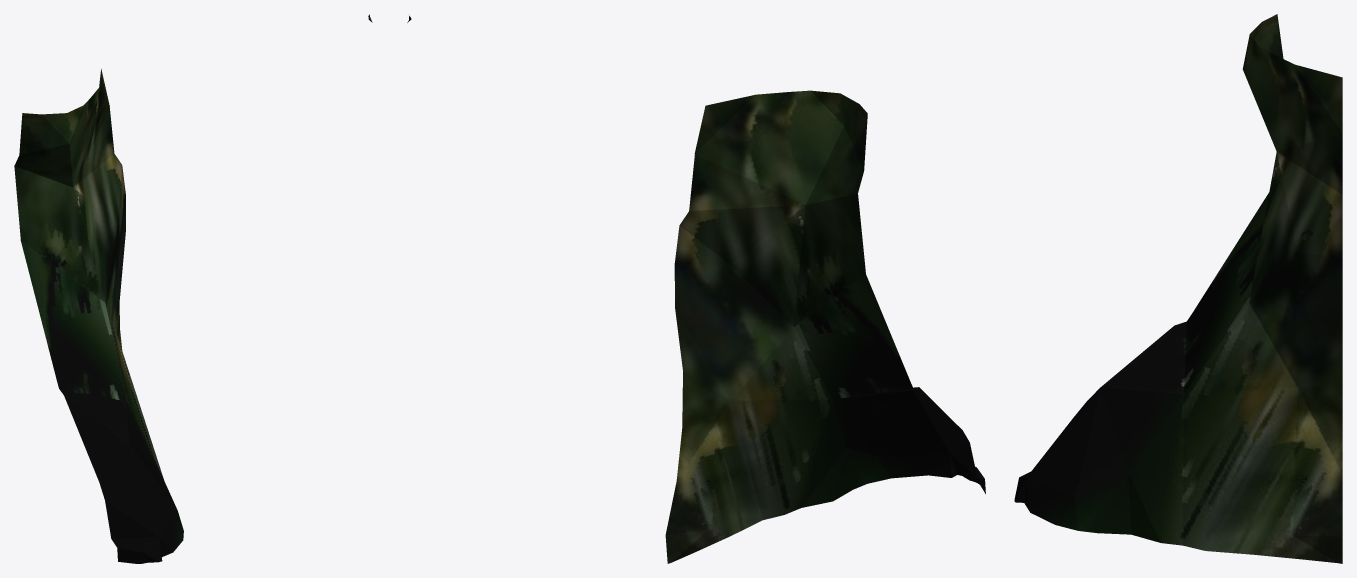
The picture shows the model from 3 angles, left to right: view 1: azimuth 30°, elevation 25°; view 2: azimuth 150°, elevation 25°; view 3: azimuth 270°, elevation 25°; orthographic projection. The views are drawn at different scales.
Bounding box in the file's own units: 0.8373 × 0.8373 × 0.5319.
1 material, 1 textured.
